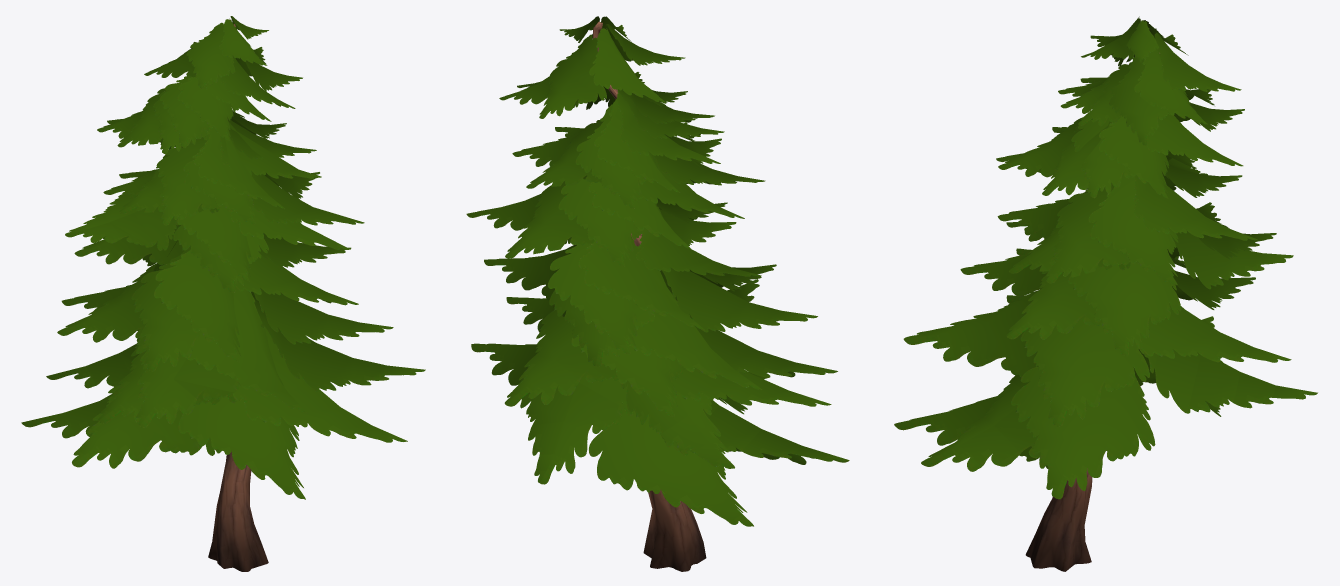
Rendered from Pine_5.glb.
3 renders of one model, left to right at view 1: azimuth 30°, elevation 25°; view 2: azimuth 150°, elevation 25°; view 3: azimuth 270°, elevation 25°, orthographic. The views are drawn at different scales.
Parts seen in each view (by area): view 1: Pine_5; view 2: Pine_5; view 3: Pine_5.
Part boxes in pixels (left/top/right/bottom): Pine_5: left=21, top=16, right=425, bottom=571; Pine_5: left=466, top=16, right=849, bottom=571; Pine_5: left=894, top=16, right=1317, bottom=571.
Bounding box in the file's own units: 6.42 × 8.72 × 6.22.
2 materials, 2 textured.
